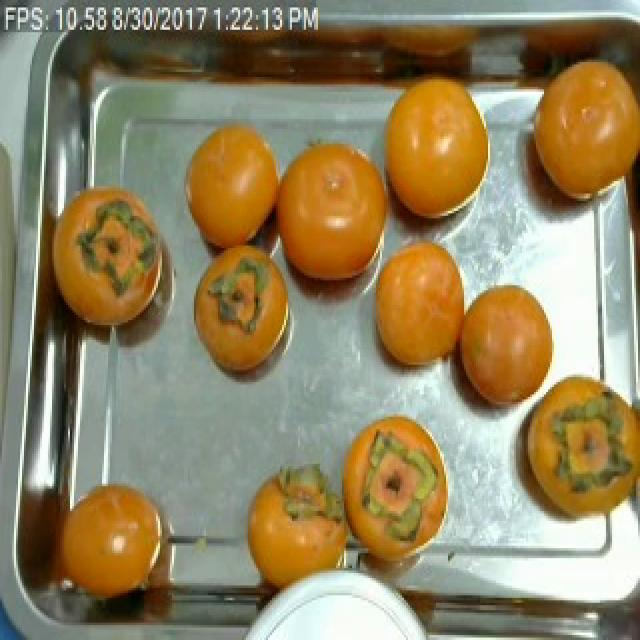Fruit: (260, 121, 394, 330), (4, 464, 180, 623), (330, 397, 464, 590), (510, 42, 640, 236), (368, 59, 506, 240), (504, 365, 636, 538), (438, 268, 568, 432), (358, 226, 478, 392), (230, 449, 356, 603), (182, 241, 298, 397), (174, 114, 288, 266)
